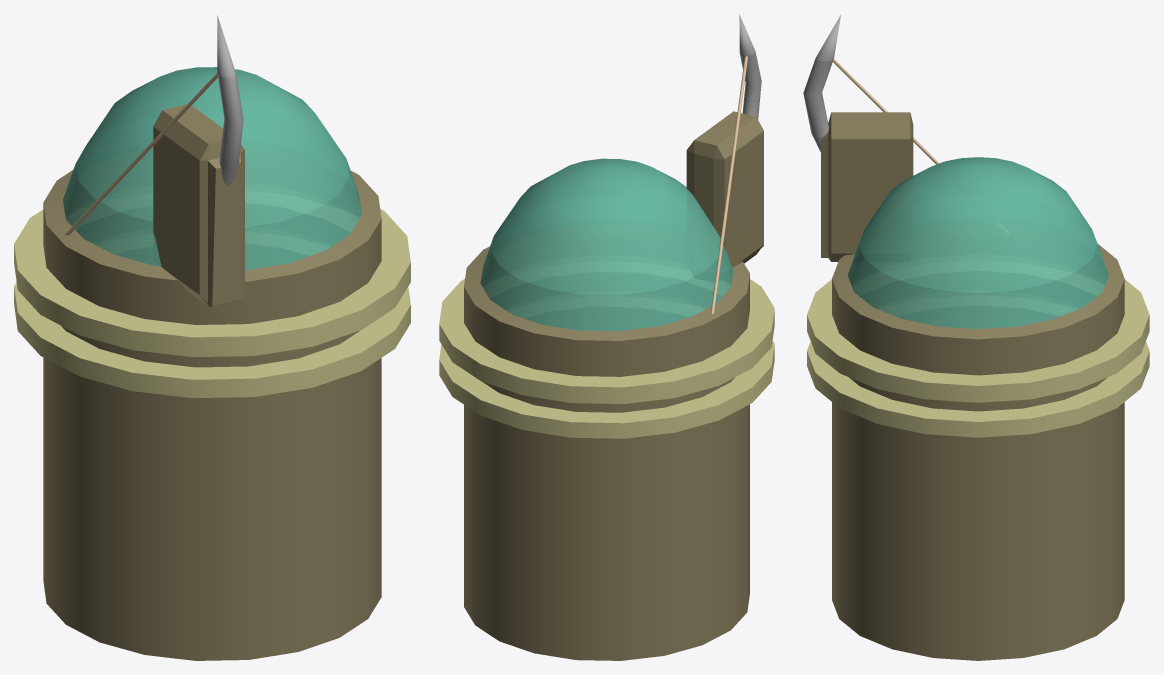
File: hybrid globe building.fbx
3 views of the same model, side by side, from view 1: azimuth 30°, elevation 25°; view 2: azimuth 150°, elevation 25°; view 3: azimuth 270°, elevation 25° (orthographic). The views are drawn at different scales.
Visible parts, largest first — view 1: Rachet_and_Clank_scene_models2_1:pasted__pasted__pCylinder9, Rachet_and_Clank_scene_models2_1:pasted__pCube8, Rachet_and_Clank_scene_models2_1:pasted__pCylinder7, Rachet_and_Clank_scene_models2_1:pasted__pCylinder8; view 2: Rachet_and_Clank_scene_models2_1:pasted__pasted__pCylinder9, Rachet_and_Clank_scene_models2_1:pasted__pCube8, Rachet_and_Clank_scene_models2_1:pasted__pCylinder7, Rachet_and_Clank_scene_models2_1:pasted__pCylinder8; view 3: Rachet_and_Clank_scene_models2_1:pasted__pasted__pCylinder9, Rachet_and_Clank_scene_models2_1:pasted__pCube8, Rachet_and_Clank_scene_models2_1:pasted__pCylinder7.
Boxes of the visible parts, x1,y1,x2,y2 form: Rachet_and_Clank_scene_models2_1:pasted__pasted__pCylinder9: (14, 67, 410, 660); Rachet_and_Clank_scene_models2_1:pasted__pCube8: (153, 104, 244, 306); Rachet_and_Clank_scene_models2_1:pasted__pCylinder7: (217, 15, 243, 185); Rachet_and_Clank_scene_models2_1:pasted__pCylinder8: (65, 73, 217, 235); Rachet_and_Clank_scene_models2_1:pasted__pasted__pCylinder9: (439, 158, 774, 660); Rachet_and_Clank_scene_models2_1:pasted__pCube8: (686, 111, 763, 267); Rachet_and_Clank_scene_models2_1:pasted__pCylinder7: (739, 14, 761, 119); Rachet_and_Clank_scene_models2_1:pasted__pCylinder8: (711, 56, 747, 313); Rachet_and_Clank_scene_models2_1:pasted__pasted__pCylinder9: (807, 157, 1149, 660); Rachet_and_Clank_scene_models2_1:pasted__pCube8: (821, 112, 913, 261); Rachet_and_Clank_scene_models2_1:pasted__pCylinder7: (803, 15, 840, 152).
Bounding box in the file's own units: 9.58 × 17.37 × 9.83.
